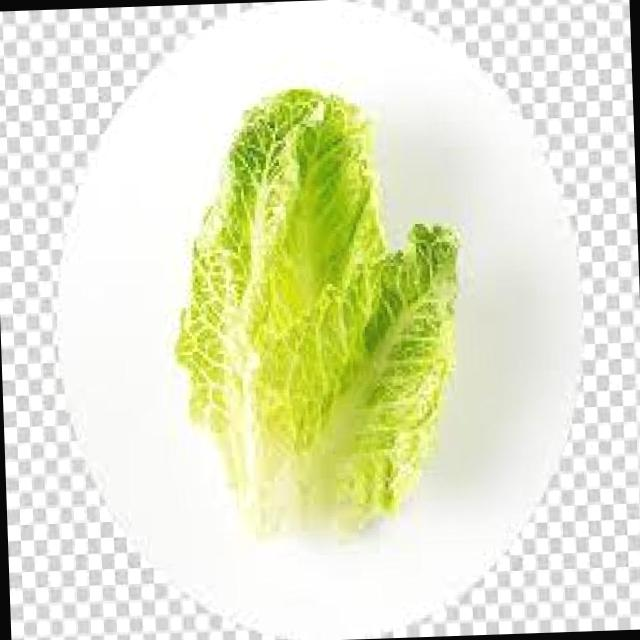Lettuce-Ready-to-Harvest: (175, 88, 456, 531)
